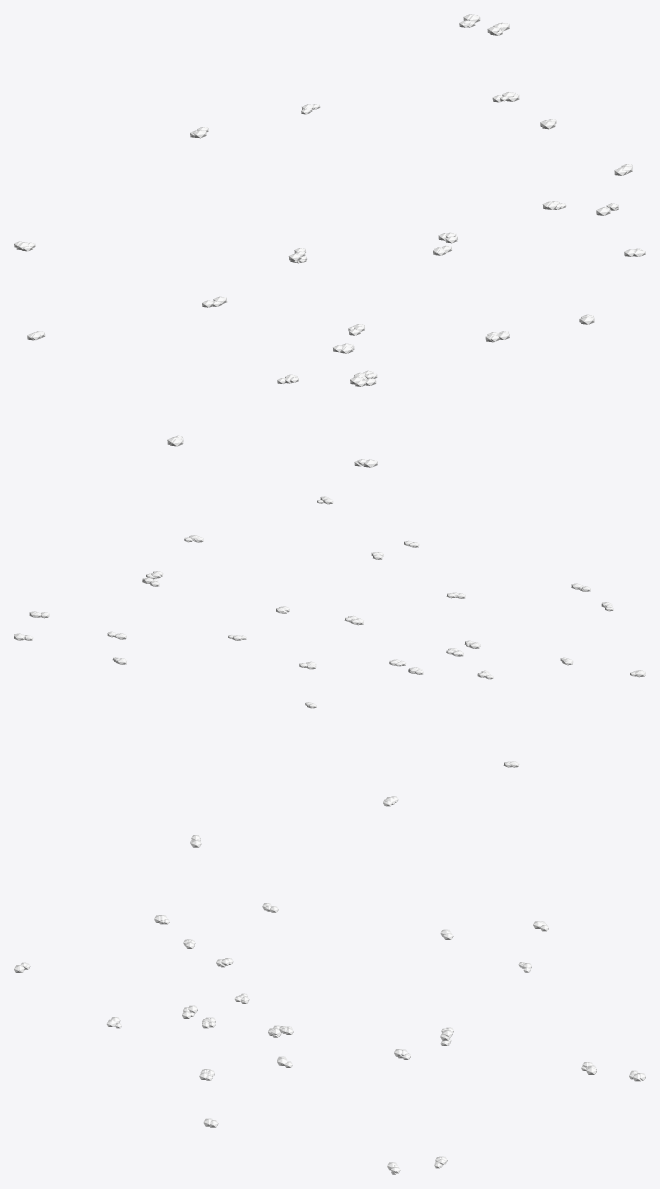
File: Nubes.glb
The picture shows the model from 3 angles, top to bottom: view 1: azimuth 30°, elevation 25°; view 2: azimuth 150°, elevation 25°; view 3: azimuth 270°, elevation 25°; orthographic projection. The views are drawn at different scales.
Size of the model in its own units: 454 by 94.57 by 441.
Materials: 1 (1 with a texture image).
